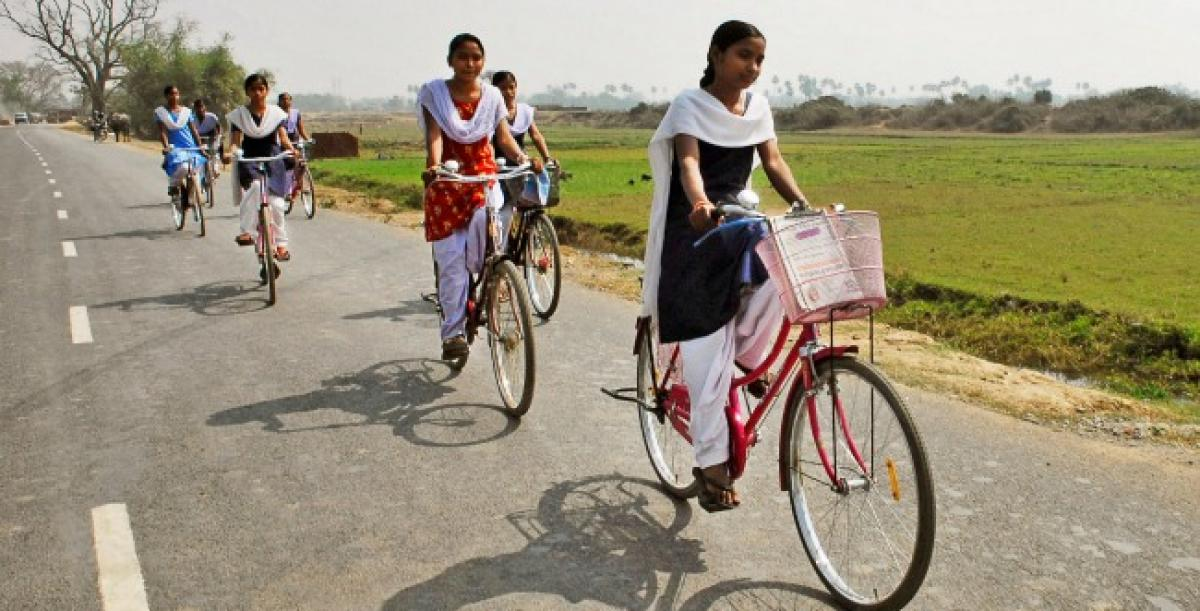cycle: (600, 193, 993, 611), (403, 157, 590, 432)
rider: (629, 6, 816, 523)
